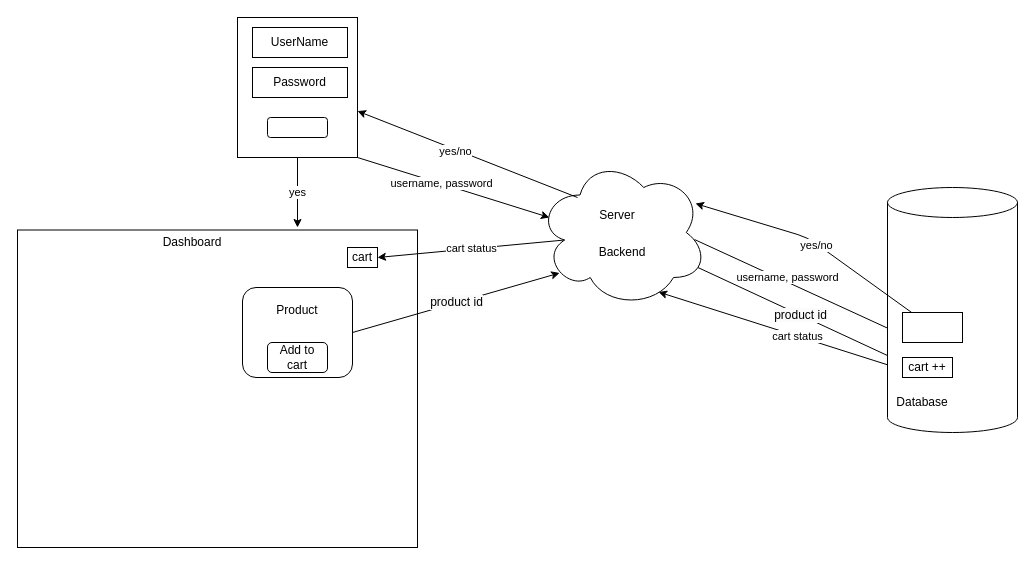
Some shapes in this 1035 by 565 pixel diagram are drawn without their labels. The centre of each missing label's shape, as x and y in pixels:
Log in: (x=297, y=127)
username password: (x=932, y=327)
